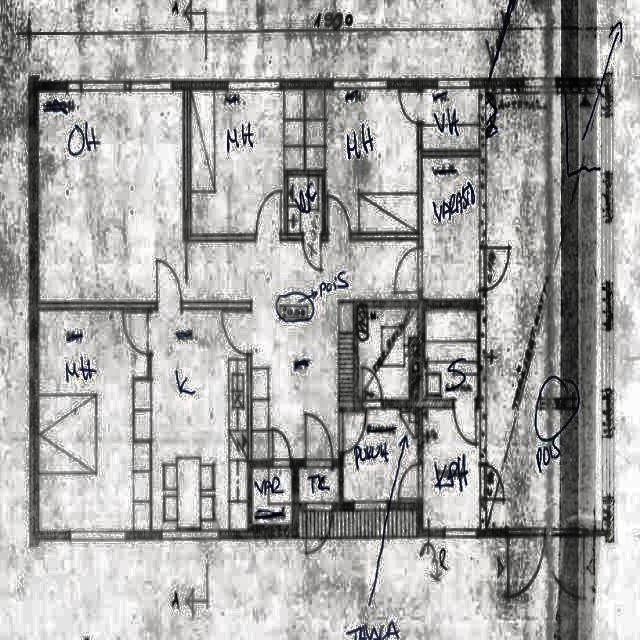room: (191, 89, 303, 233), (306, 89, 417, 232), (422, 157, 479, 299), (423, 408, 480, 529), (343, 410, 417, 501), (358, 309, 417, 401), (423, 310, 477, 399), (422, 89, 479, 151), (287, 174, 323, 233)
